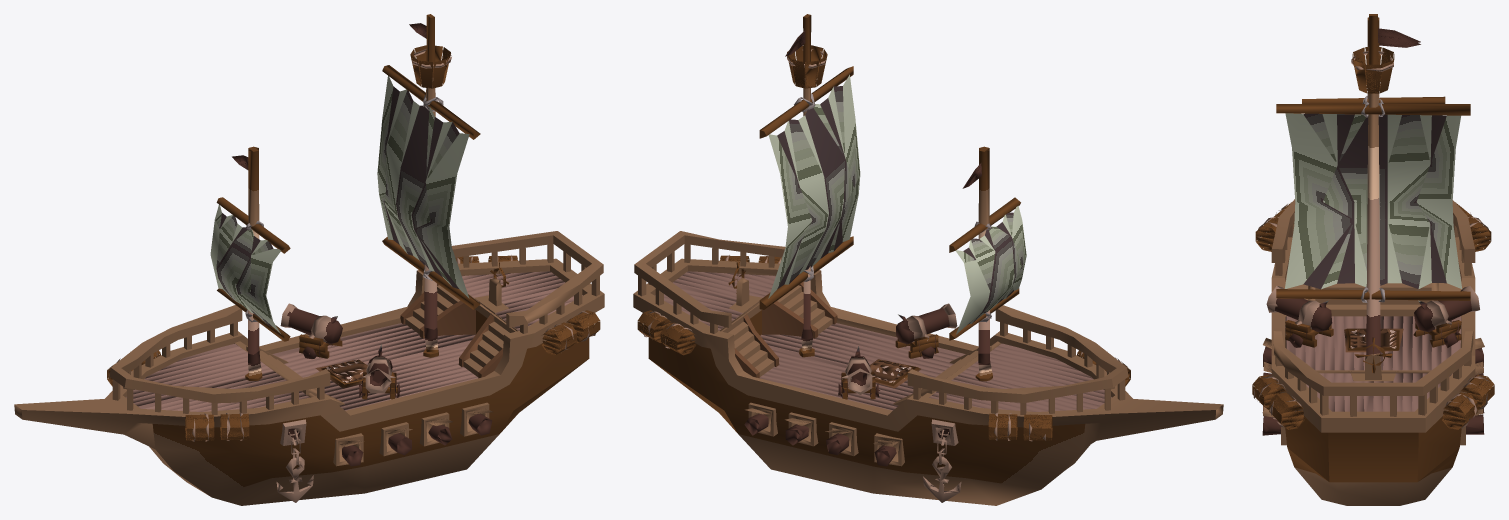
The model's file is Ship_Large.medium.gltf.
The picture shows the model from 3 angles, left to right: view 1: azimuth 30°, elevation 25°; view 2: azimuth 150°, elevation 25°; view 3: azimuth 270°, elevation 25°; orthographic projection. The views are drawn at different scales.
Parts seen in each view (by area): view 1: Ship_Large; view 2: Ship_Large; view 3: Ship_Large.
Boxes of the visible parts, x1,y1,x2,y2 form: Ship_Large: [14, 14, 604, 505]; Ship_Large: [633, 14, 1223, 505]; Ship_Large: [1252, 14, 1494, 505].
Size of the model in its own units: 15.39 by 11.48 by 5.28.
Materials: 1 (1 with a texture image).
